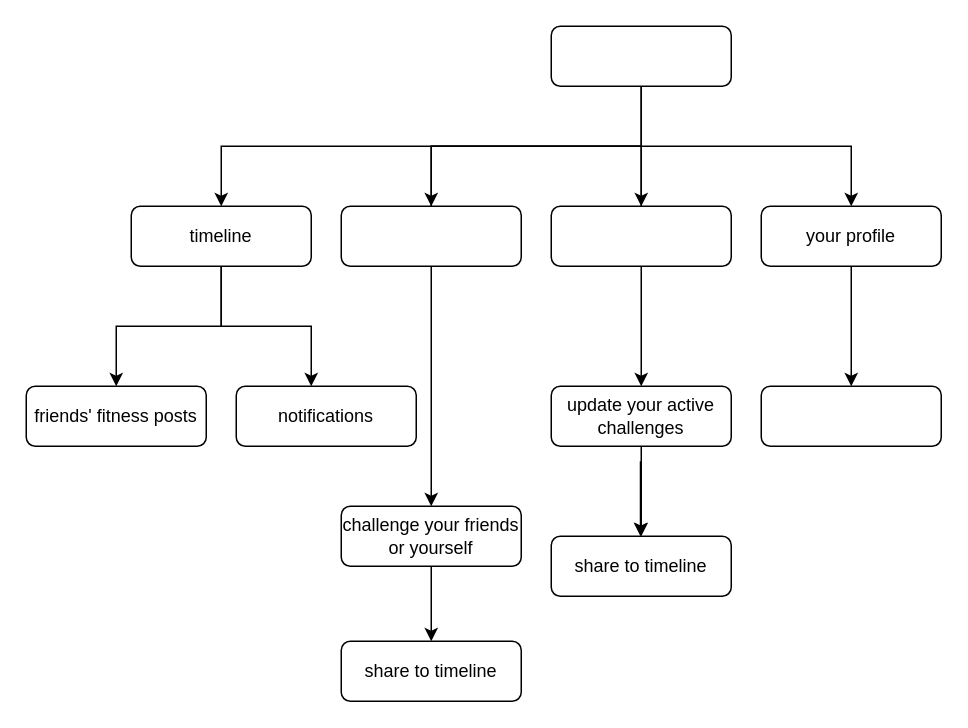
The diagram is 968 pixels wide and 728 high, and some of its shapes have lost their labels. The box of each missing label's shape, as (x1, y1, x2, y2) in pixels:
an overview of your challenges: (760, 385, 941, 446)
challenge manager: (550, 205, 731, 266)
create: (340, 205, 521, 266)
Home Page: (550, 25, 731, 86)
